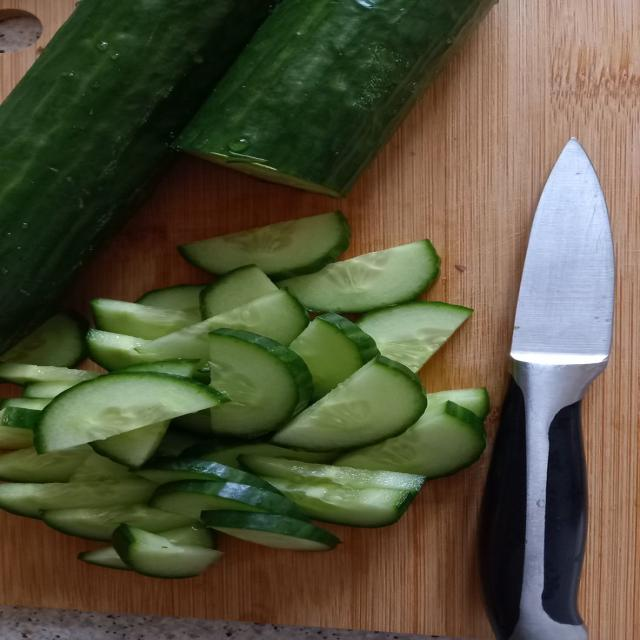cucumber raw: (0, 0, 274, 353), (174, 0, 494, 197)
cucumber sliced: (35, 373, 226, 453), (272, 356, 426, 451), (136, 291, 308, 361), (336, 401, 486, 479), (180, 211, 350, 279), (279, 240, 439, 312), (209, 329, 313, 437), (359, 302, 473, 371), (290, 313, 379, 399), (267, 479, 415, 527), (241, 456, 425, 493), (0, 478, 155, 518), (149, 480, 307, 519), (113, 525, 221, 578), (42, 504, 196, 540), (202, 511, 339, 550), (137, 458, 277, 492), (0, 312, 86, 366), (92, 299, 199, 339), (200, 265, 277, 318), (185, 443, 337, 468), (91, 420, 169, 468), (0, 446, 90, 482), (87, 329, 162, 370), (137, 284, 206, 322), (70, 448, 135, 482), (0, 363, 99, 385), (427, 388, 490, 420), (113, 359, 199, 377), (159, 524, 216, 548), (156, 426, 199, 457), (159, 526, 214, 548), (79, 547, 130, 570), (173, 410, 213, 438), (23, 381, 84, 399), (0, 407, 41, 429), (0, 425, 33, 450), (0, 398, 52, 410)
